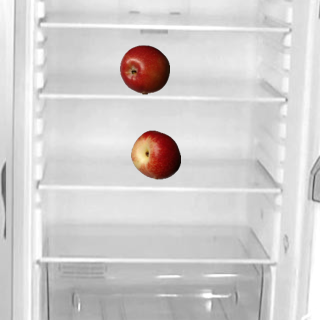Apple Braeburn: (119, 44, 169, 94)
Nectarine: (130, 129, 180, 179)
